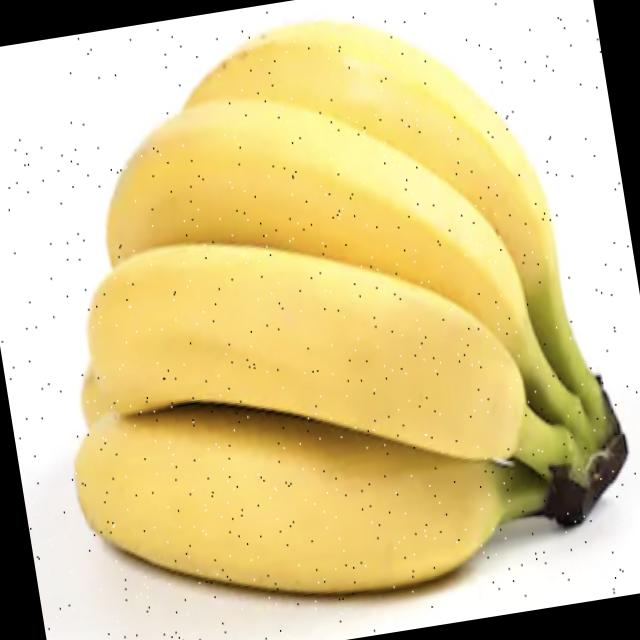banana: (69, 91, 555, 478)
